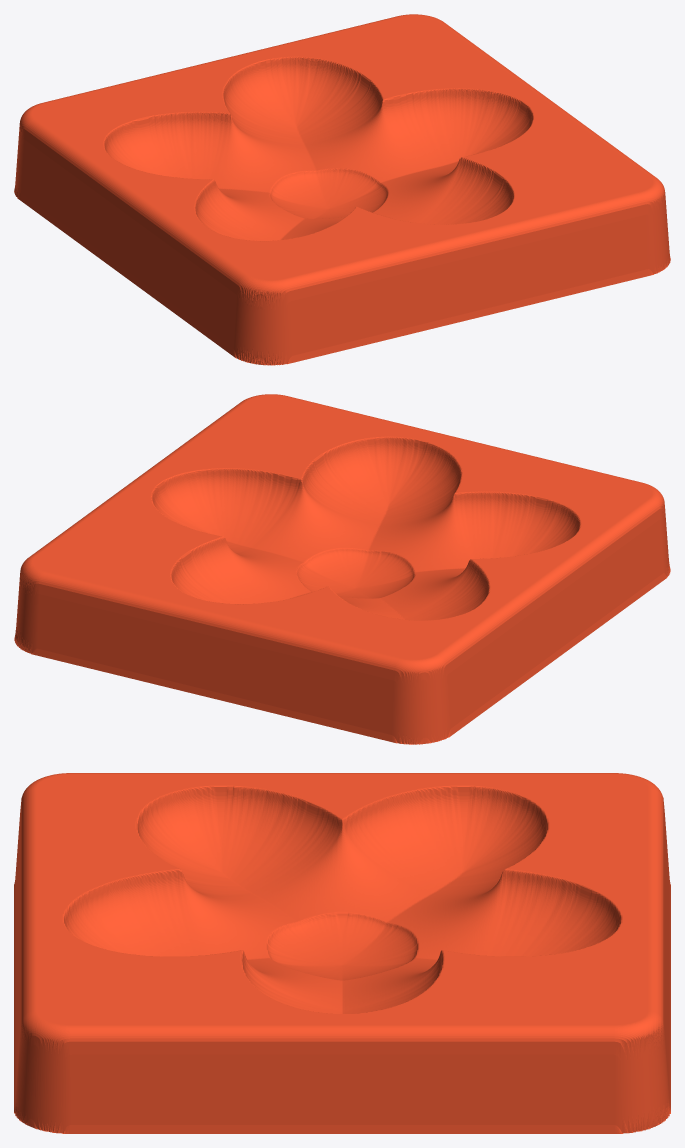
The model's file is mold.glb.
3 renders of one model, top to bottom at view 1: azimuth 30°, elevation 25°; view 2: azimuth 150°, elevation 25°; view 3: azimuth 270°, elevation 25°, orthographic. The views are drawn at different scales.
Visible parts, largest first — view 1: geometry_0; view 2: geometry_0; view 3: geometry_0.
Boxes of the visible parts, x1=… form: geometry_0: x1=14, y1=14, x2=670, y2=365; geometry_0: x1=14, y1=394, x2=670, y2=744; geometry_0: x1=14, y1=773, x2=670, y2=1133.
Size of the model in its own units: 0.102 by 0.0175 by 0.105.
